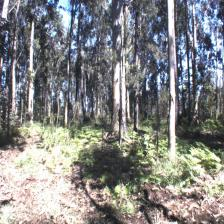trunktrack_idkeyframe: (108, 64, 126, 132), (166, 62, 176, 150)
